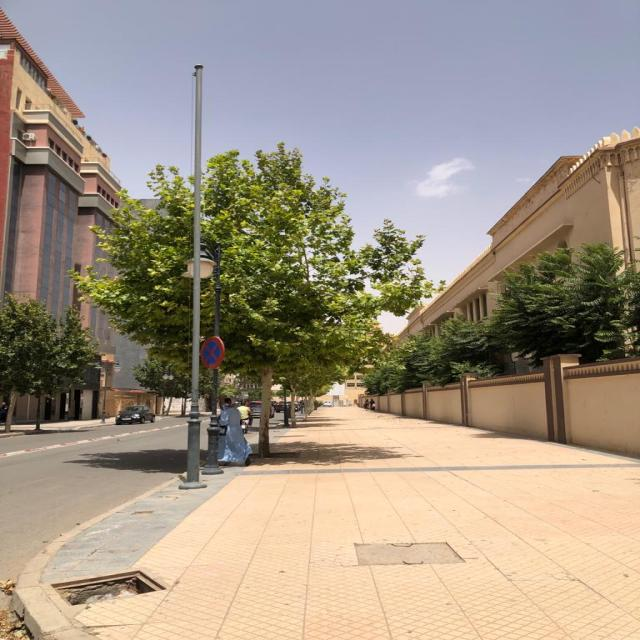Electric pole: (179, 65, 206, 490)
Tree: (202, 144, 430, 404), (78, 166, 188, 361), (0, 296, 97, 432)
